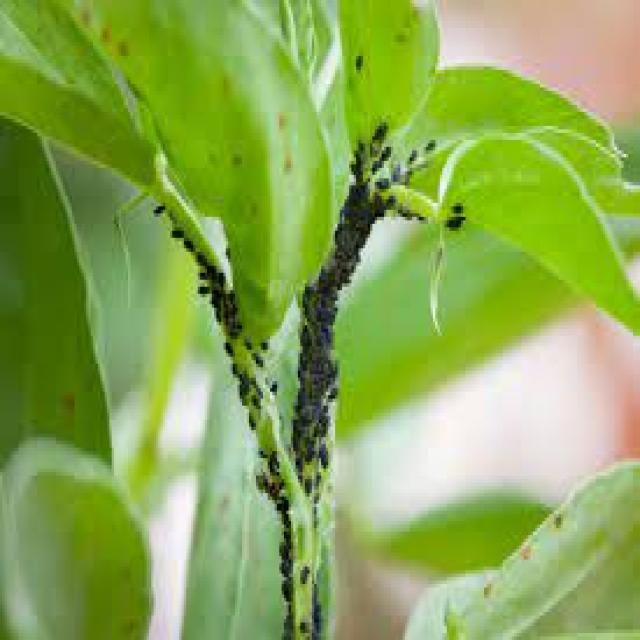aphid: (368, 164, 398, 196), (251, 325, 277, 357), (440, 206, 465, 238), (416, 126, 440, 157), (368, 115, 391, 147), (312, 297, 335, 329), (221, 353, 247, 381), (314, 434, 333, 472), (312, 252, 335, 283), (293, 318, 312, 353), (216, 332, 238, 360), (295, 556, 312, 591), (216, 231, 233, 266), (401, 140, 422, 168), (252, 437, 272, 465), (298, 469, 316, 500), (165, 217, 184, 245), (277, 574, 296, 602), (349, 46, 368, 74), (293, 612, 314, 637), (275, 552, 293, 580), (177, 228, 195, 255), (193, 276, 212, 301), (242, 406, 258, 434), (263, 371, 279, 398), (323, 378, 340, 402), (149, 196, 168, 217), (240, 329, 256, 353), (275, 490, 291, 514), (412, 203, 428, 227), (447, 196, 463, 217), (272, 472, 286, 493)
